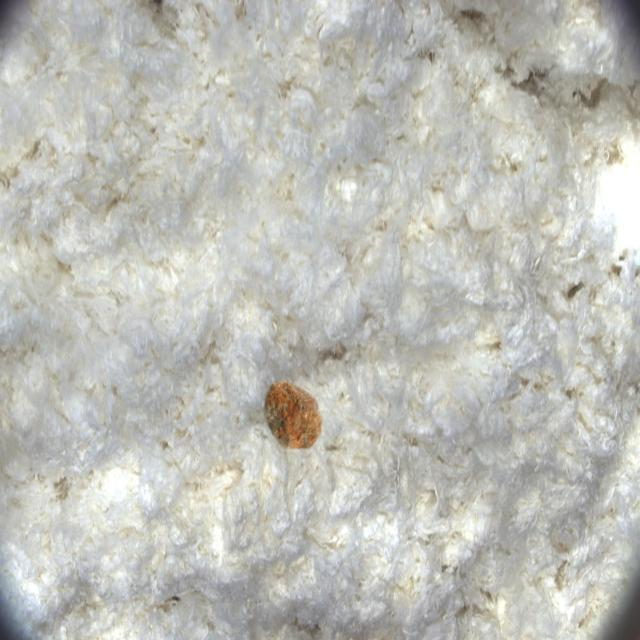dust: (239, 350, 357, 484)
